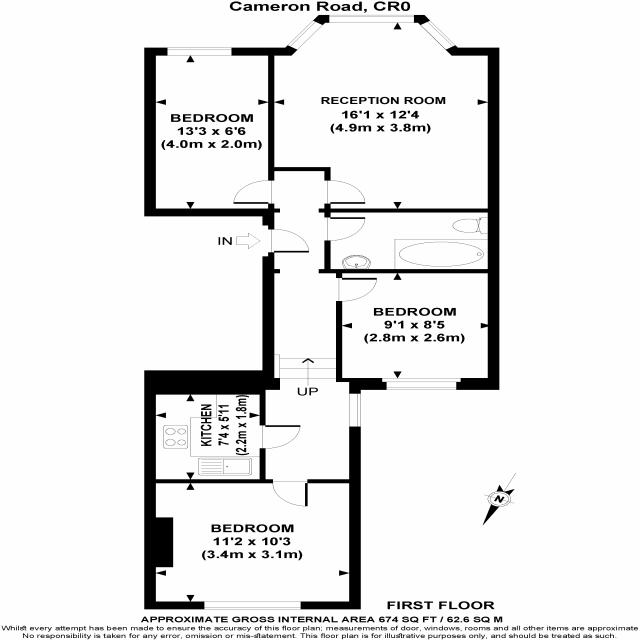DOOR: (335, 277, 378, 303), (324, 179, 367, 204), (268, 228, 310, 253), (259, 425, 301, 450), (324, 217, 366, 242), (272, 479, 309, 507), (232, 180, 275, 204)
ROOM: (268, 14, 500, 212), (144, 479, 362, 610), (144, 47, 275, 217), (335, 269, 500, 390), (144, 370, 302, 484)
WINDOW: (287, 20, 324, 51), (419, 20, 456, 51), (381, 377, 461, 390), (204, 601, 302, 610), (328, 15, 415, 23), (167, 47, 233, 56), (348, 392, 362, 428)
